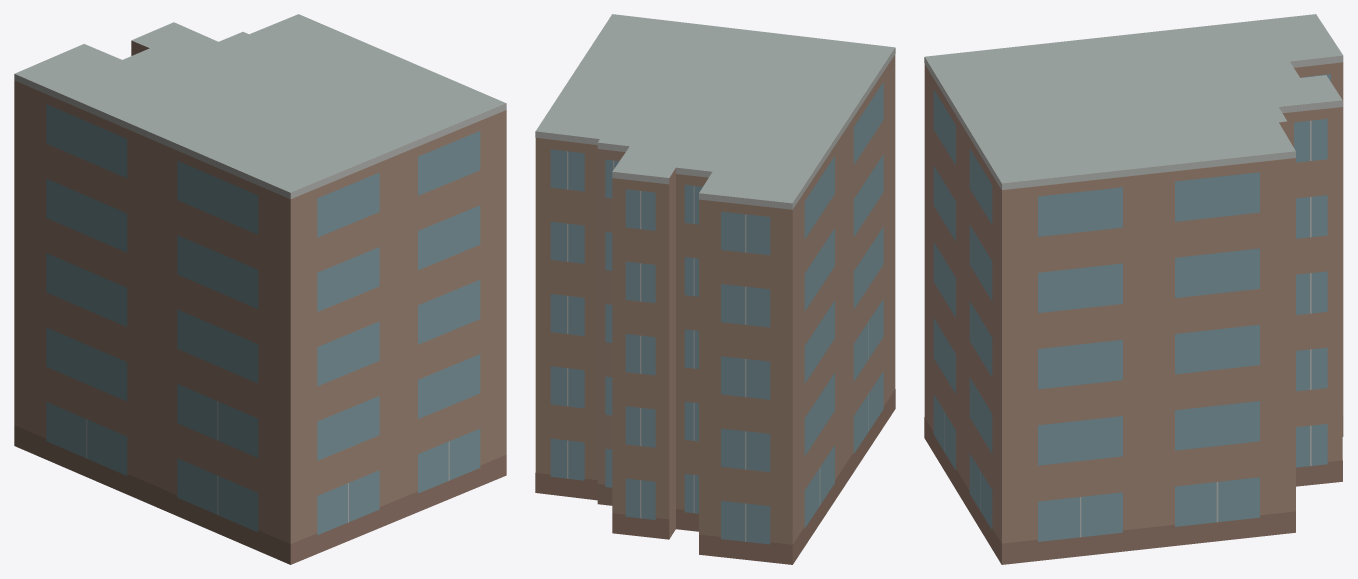
File: survey-upis-33022050.glb
3 renders of one model, left to right at view 1: azimuth 30°, elevation 25°; view 2: azimuth 150°, elevation 25°; view 3: azimuth 270°, elevation 25°, orthographic. The views are drawn at different scales.
Visible parts, largest first — view 1: survey-upis-33022050.tmp; view 2: survey-upis-33022050.tmp; view 3: survey-upis-33022050.tmp.
Part boxes in pixels (x1,y1,x2,y2): survey-upis-33022050.tmp: (14,14,506,564); survey-upis-33022050.tmp: (535,14,895,564); survey-upis-33022050.tmp: (924,14,1343,564).
Size of the model in its own units: 13.33 by 13.97 by 13.92.
